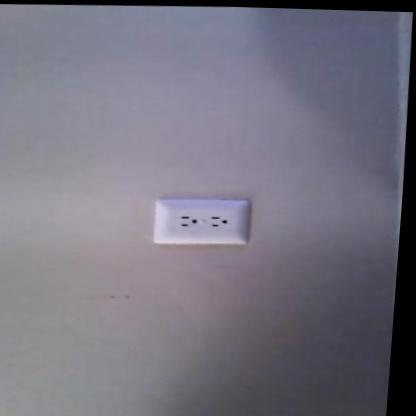OUTLET: (149, 196, 251, 248)
